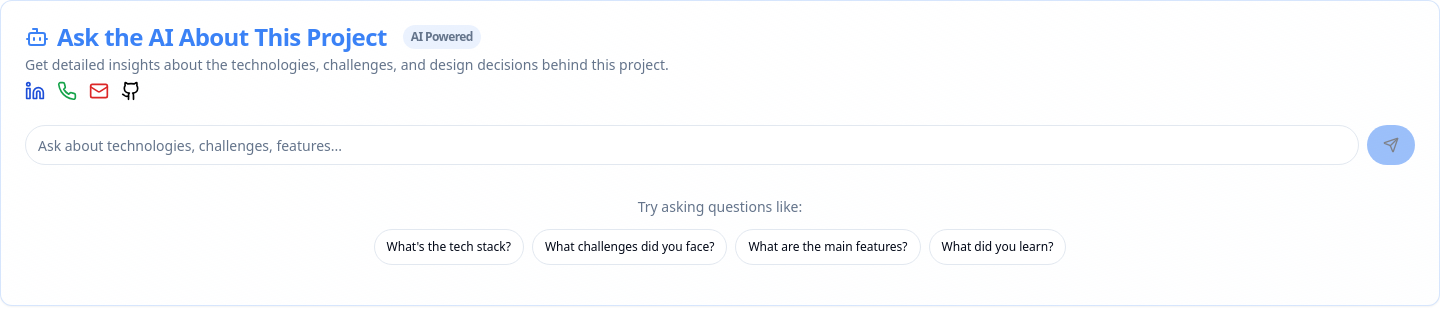
Test: AIProjectChat Component › enables send button when input has content
Type "Test message" into the field with placeholder "Ask about technologies, challenges, features...".
click(692, 145); type("Test message")  # box 25,125 -> 1359,165
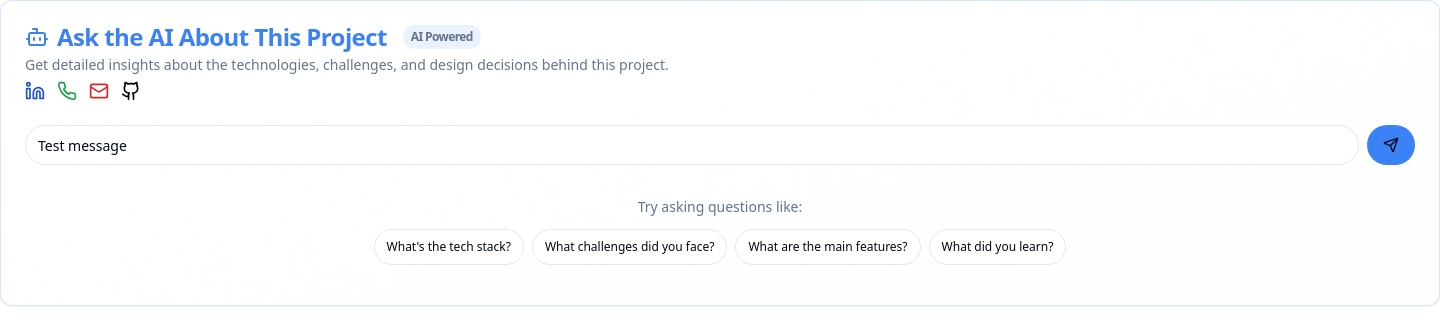
Expected: the button named "send" is enabled, 1367,125 -> 1415,165
